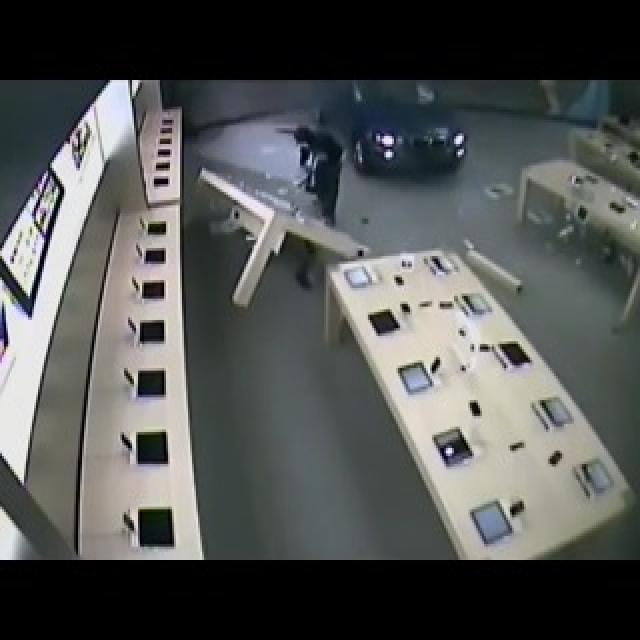thief: (286, 121, 346, 221)
